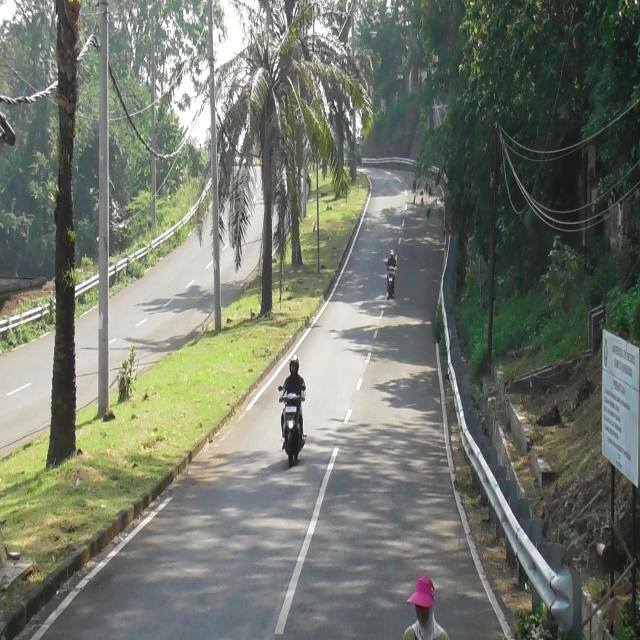motorcycle: (279, 384, 306, 468), (387, 266, 396, 298)
person: (281, 354, 306, 404), (386, 249, 398, 270)
rider_region: (276, 348, 306, 472), (384, 240, 398, 308)
